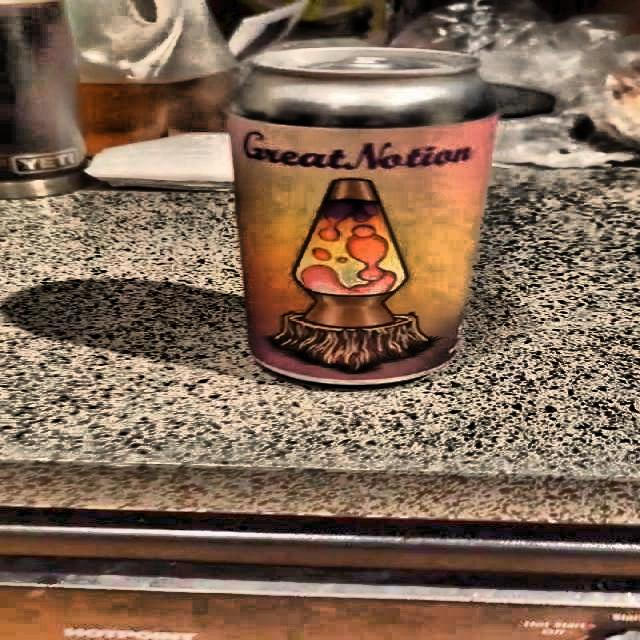can: (224, 40, 501, 394)
